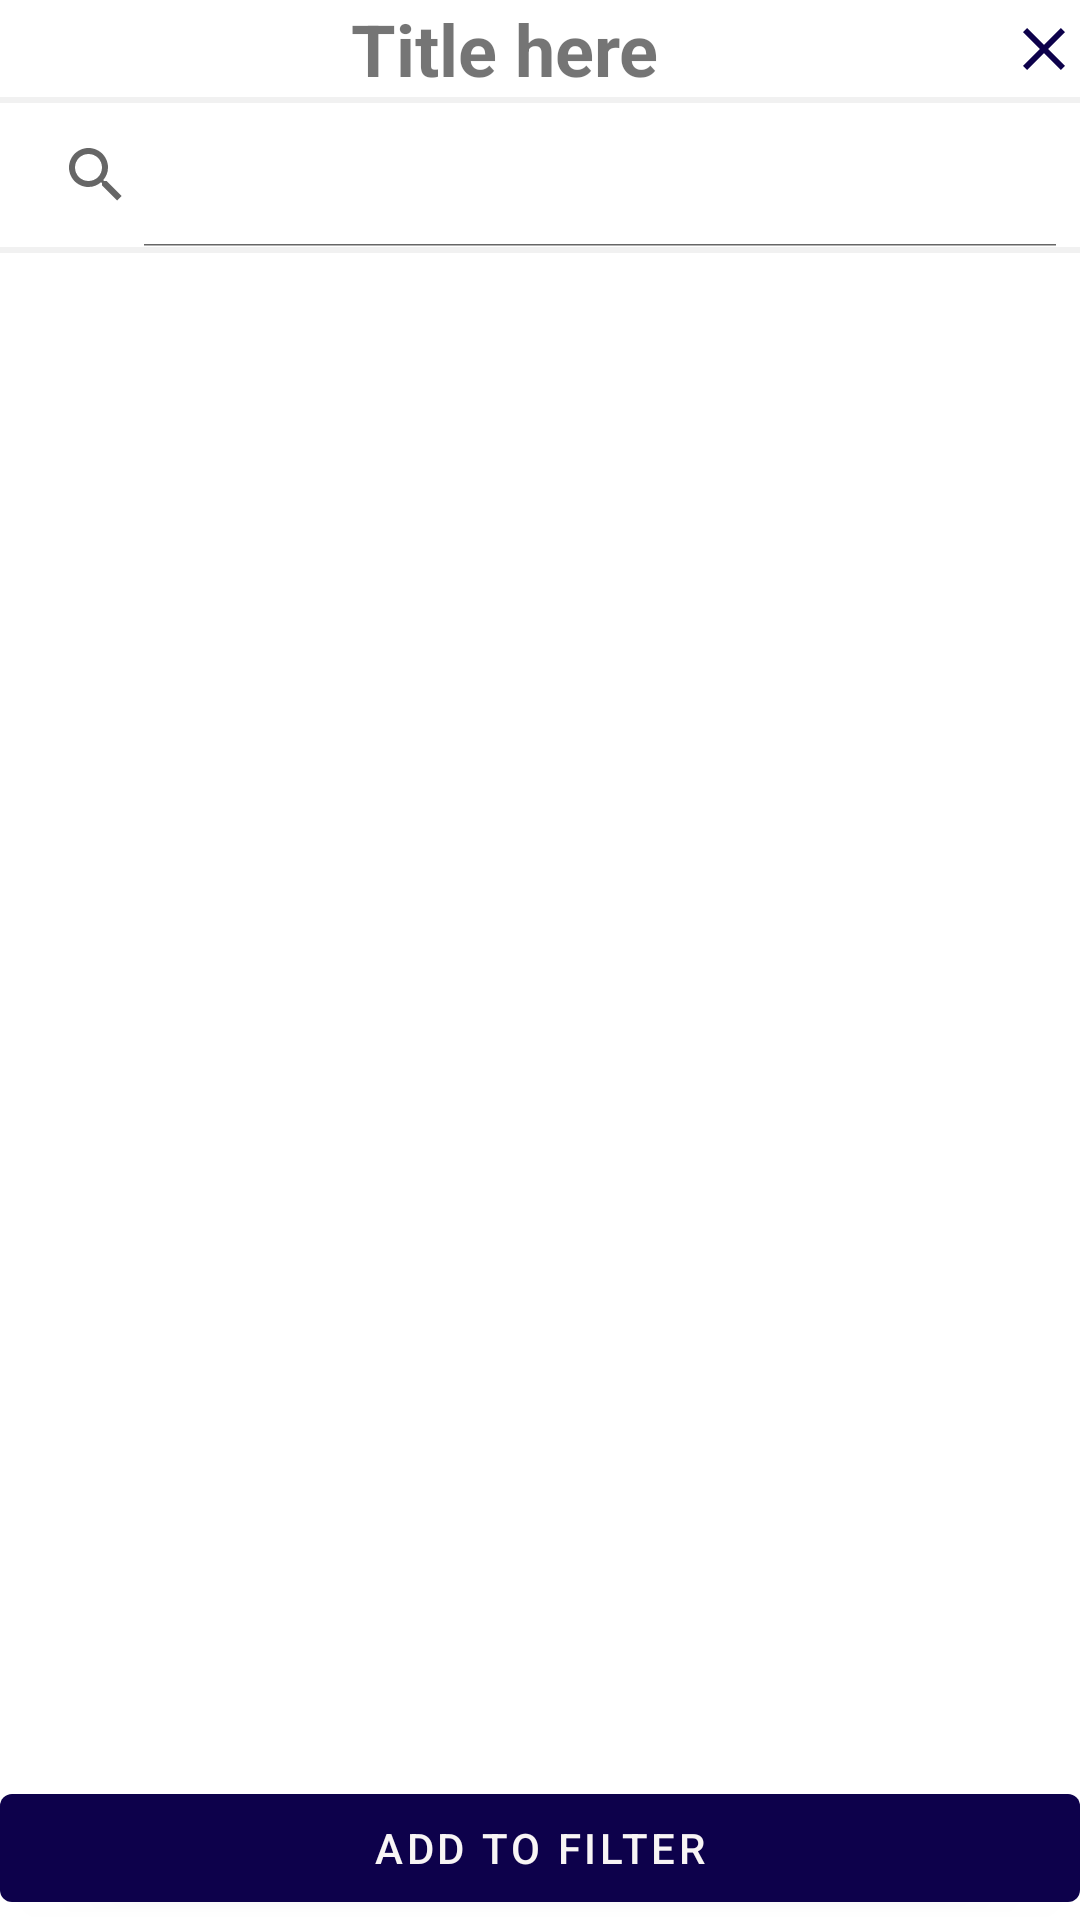

Where icons sit on this 1080px x 1920px app screen, as [x1=x1, y1=y1, x2=x2, y2=y2]:
close: [x1=1023, y1=28, x2=1065, y2=70]
